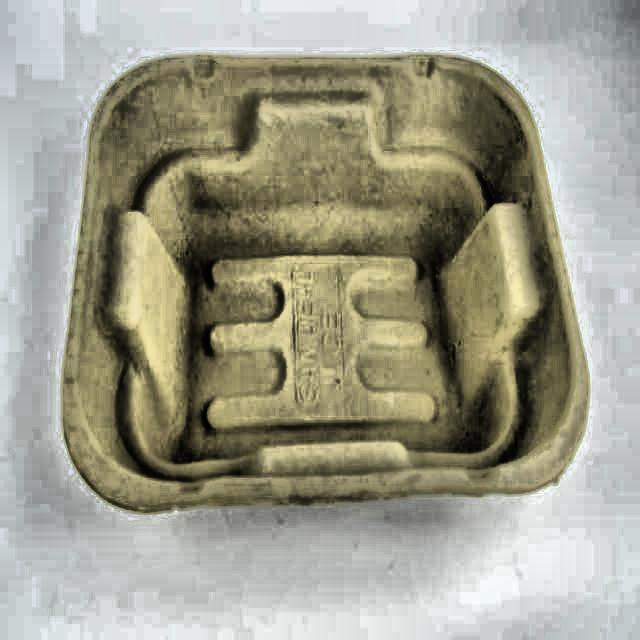cardboard: (59, 53, 591, 517)
